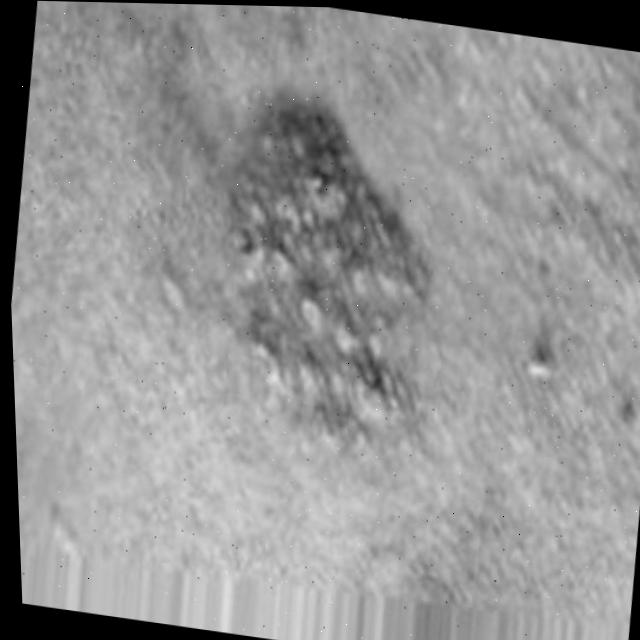Shingles: (196, 104, 437, 421)
